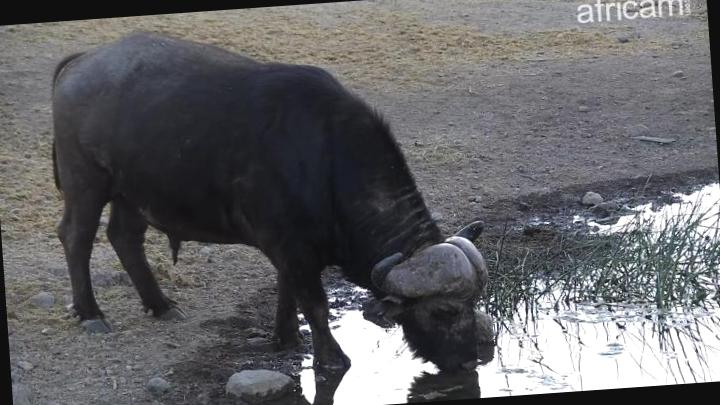Buffalo: (37, 18, 496, 392)
